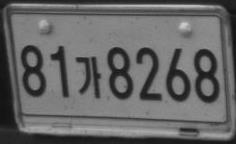1: (49, 45, 74, 97)
2: (135, 46, 162, 101)
6: (165, 47, 191, 102)
8: (192, 48, 221, 103), (106, 46, 134, 100), (20, 44, 47, 97)
가: (75, 56, 102, 99)
